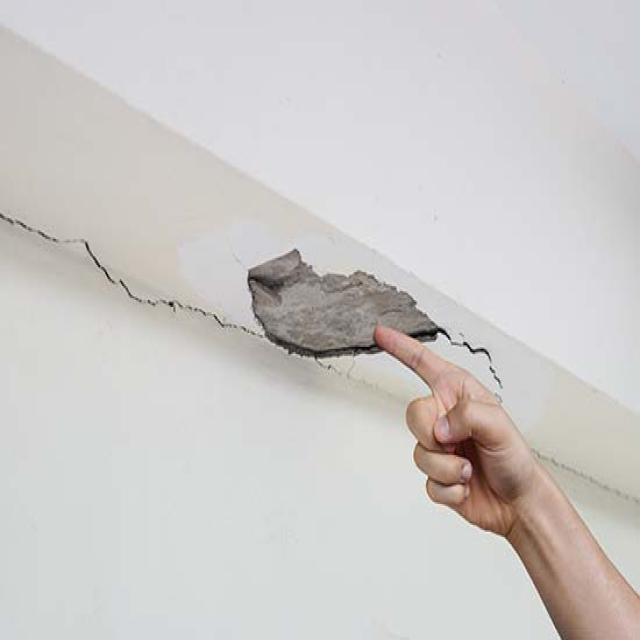Crack: (0, 209, 503, 391)
